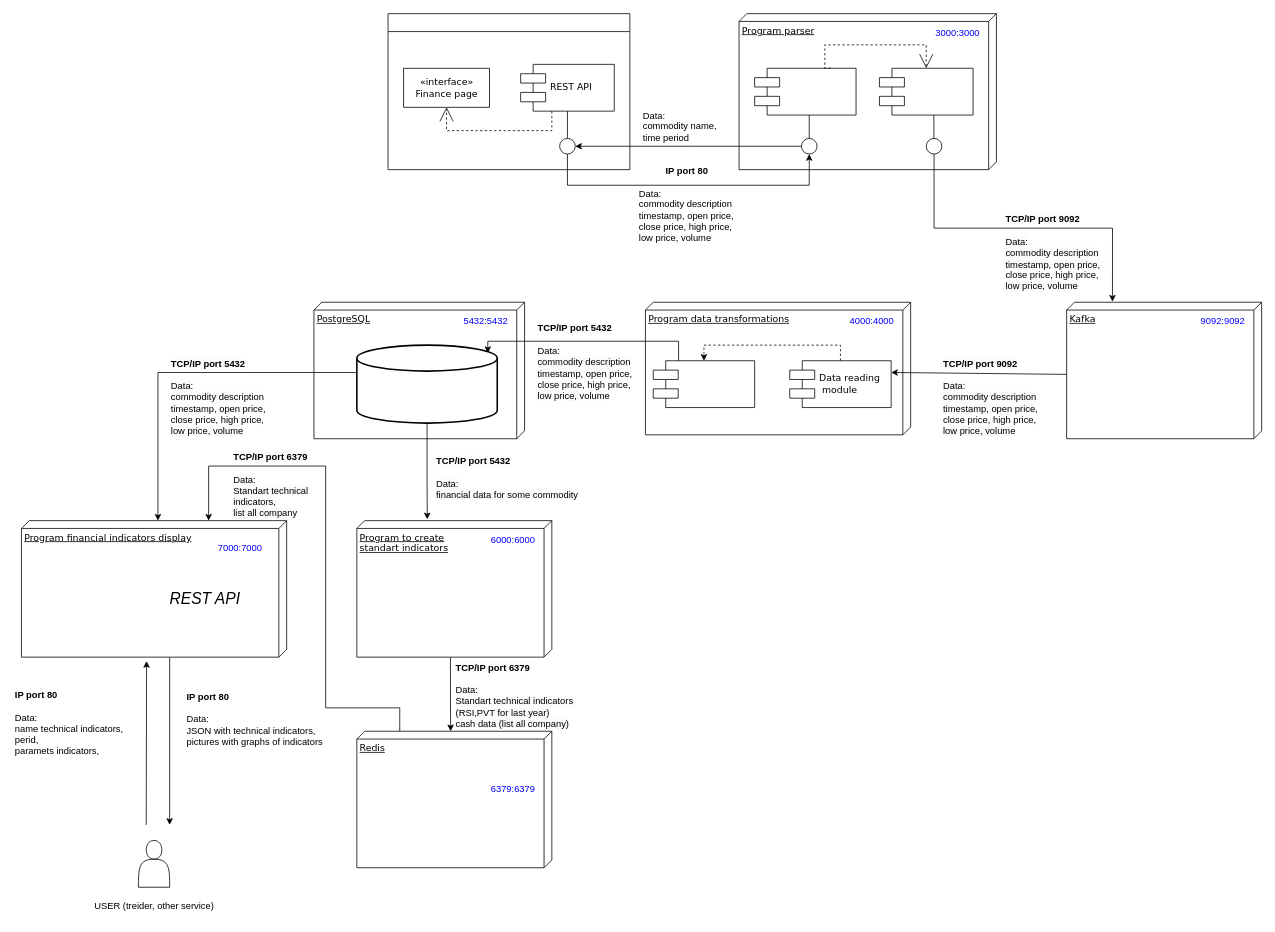
The diagram is 1275 pixels wide and 932 high, and some of its shapes have lost their labels. The shapes that lost their labels are listed below. From the top down, each one's centre as x and y in pixels, then its label:
the point at 508,91: Yahoo Finance
the point at 805,91: Module Parser
the point at 926,91: Module data upload
the point at 427,384: Database
the point at 703,384: SQL write module
